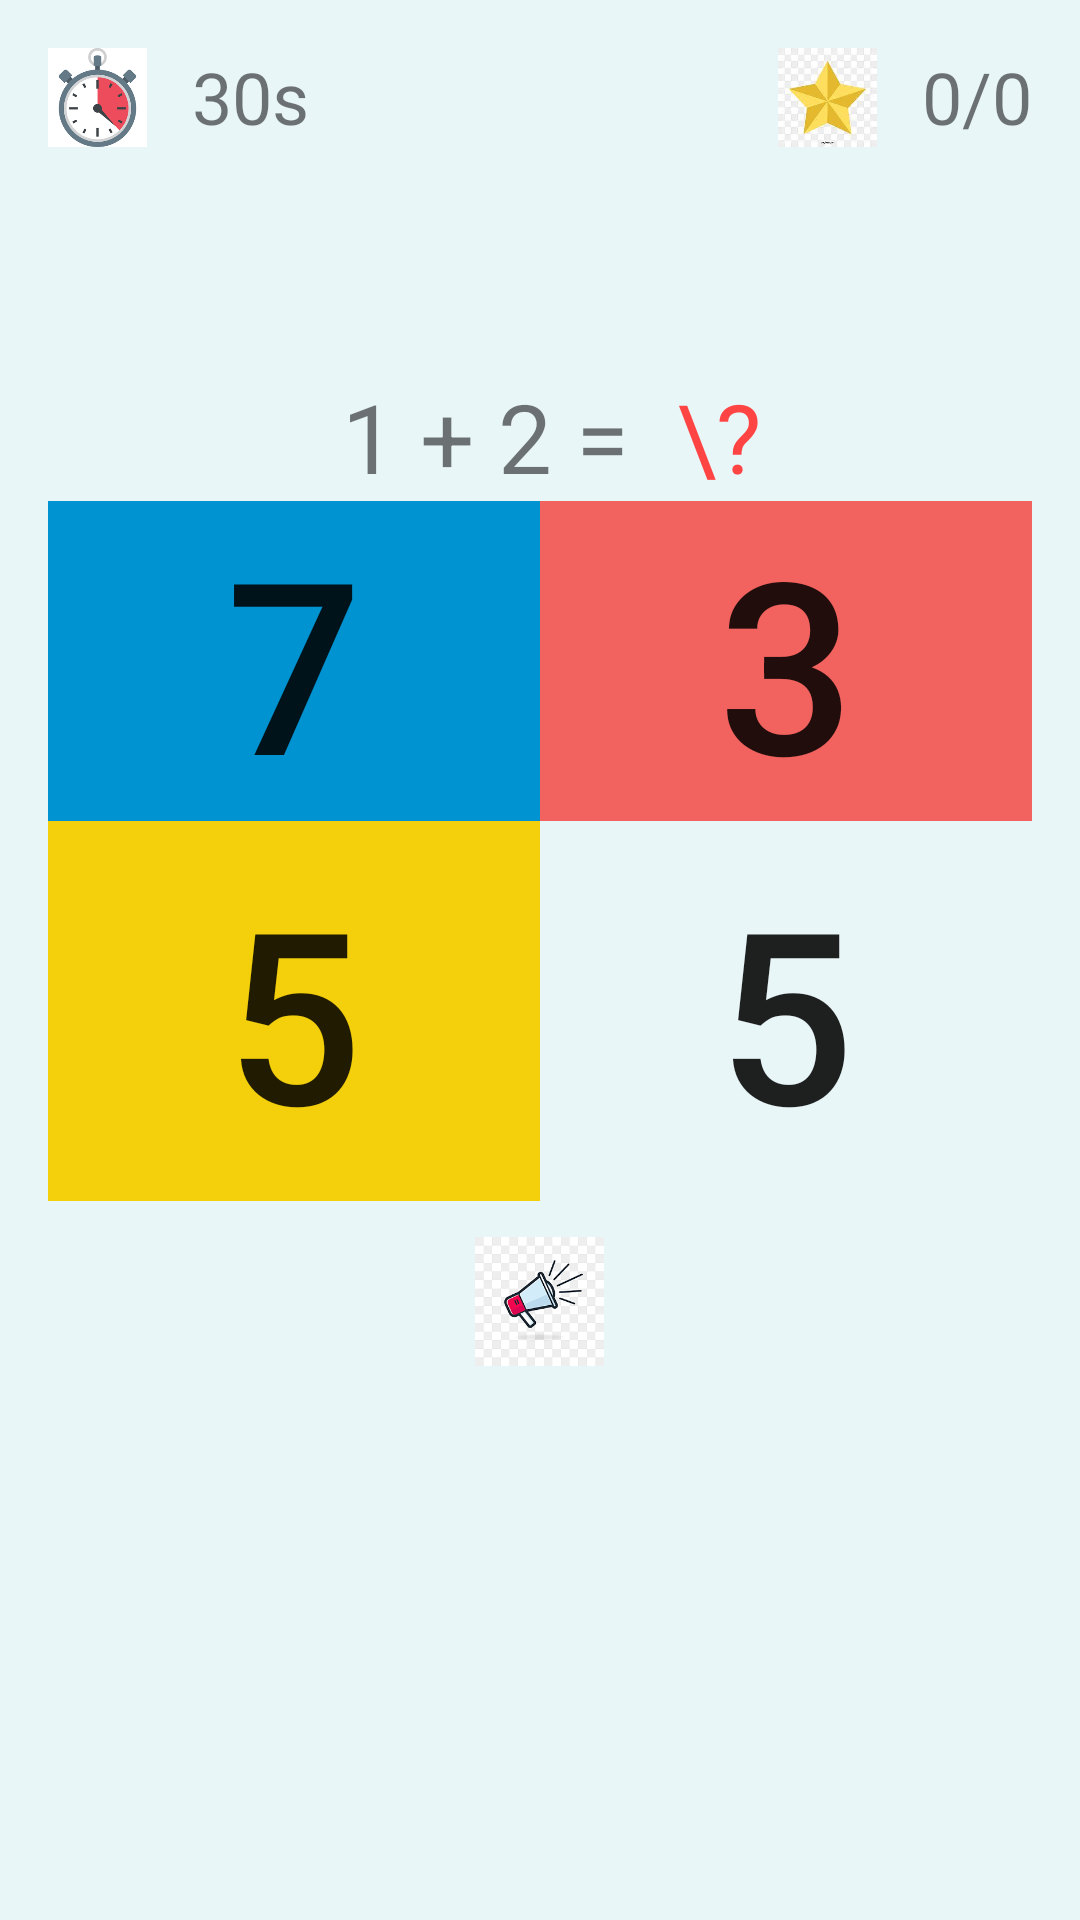

Point at icon controls on the screen. Image size 1080*1920, points as [x,y].
loud speaker: [539,1301]
star: [827,97]
stopwatch: [97,97]
